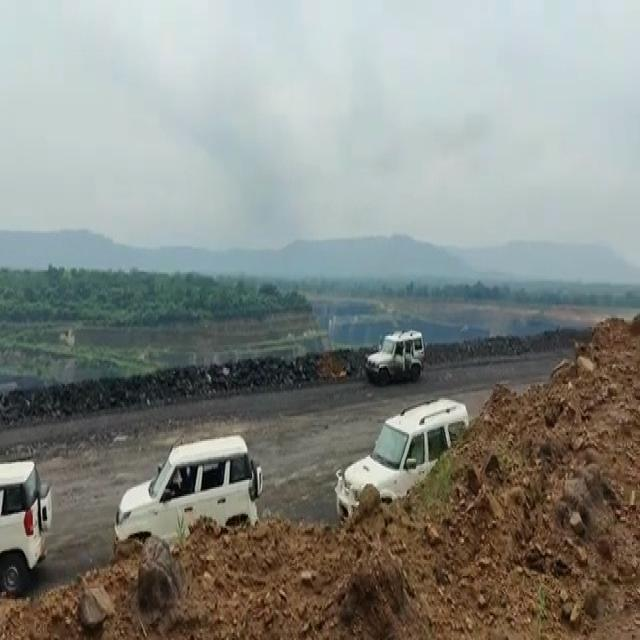light_vehicle: (331, 391, 471, 523), (105, 429, 257, 523), (0, 452, 55, 593), (366, 327, 424, 383)
